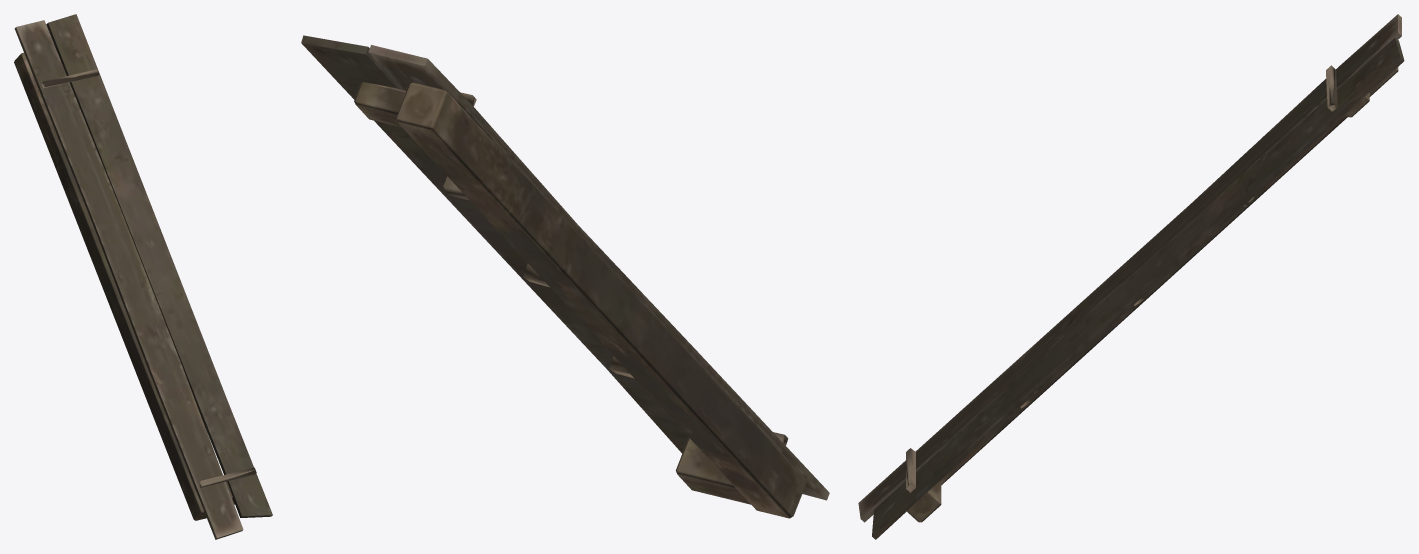
Rendered from roof.frontier.right.line.glb.
3 views of the same model, side by side, from view 1: azimuth 30°, elevation 25°; view 2: azimuth 150°, elevation 25°; view 3: azimuth 270°, elevation 25° (orthographic). The views are drawn at different scales.
Visible parts, largest first — view 1: model; view 2: model; view 3: model.
Boxes of the visible parts, bbox=[...] form: model: bbox=[14, 14, 272, 539]; model: bbox=[301, 35, 829, 518]; model: bbox=[858, 14, 1404, 539].
Bounding box in the file's own units: 0.6152 × 3.38 × 3.39.
Materials: 1 (1 with a texture image).
